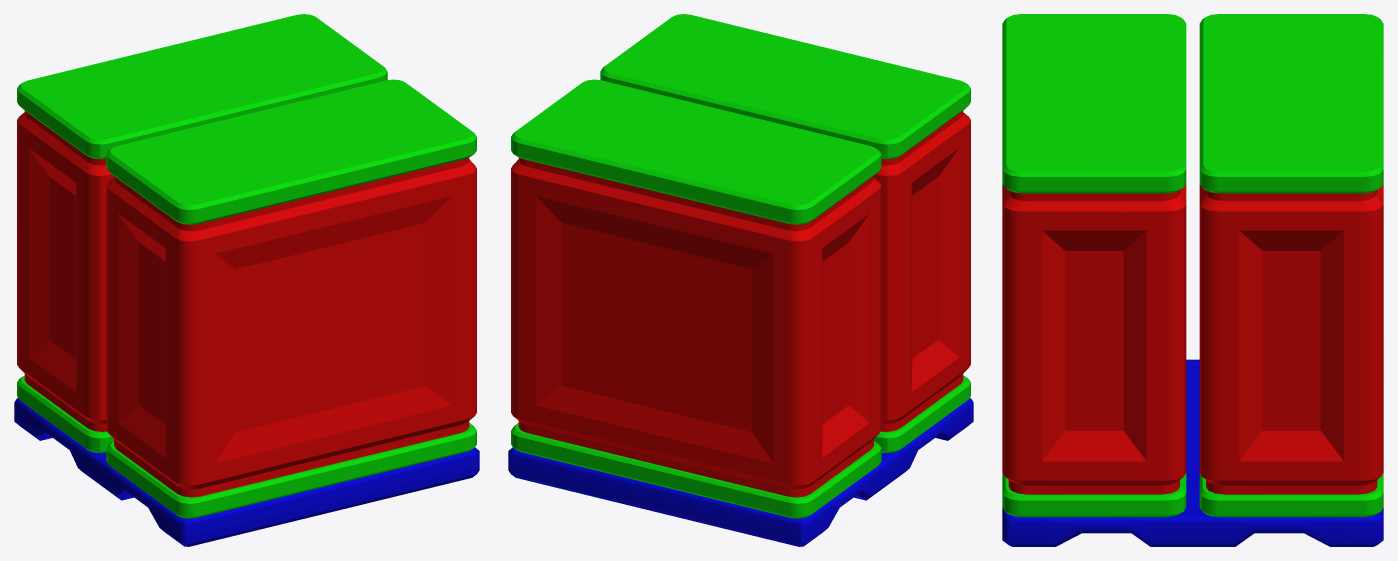
Rendered from SM_ValveRoom_Boxes_Staked_1.fbx.
3 renders of one model, left to right at view 1: azimuth 30°, elevation 25°; view 2: azimuth 150°, elevation 25°; view 3: azimuth 270°, elevation 25°, orthographic. The views are drawn at different scales.
Visible parts, largest first — view 1: SM_ValveRoom_Boxes_Staked_1; view 2: SM_ValveRoom_Boxes_Staked_1; view 3: SM_ValveRoom_Boxes_Staked_1.
Boxes of the visible parts, x1=… form: SM_ValveRoom_Boxes_Staked_1: x1=14, y1=14, x2=479, y2=546; SM_ValveRoom_Boxes_Staked_1: x1=508, y1=14, x2=973, y2=546; SM_ValveRoom_Boxes_Staked_1: x1=1002, y1=14, x2=1383, y2=546.
Bounding box in the file's own units: 200 × 218 × 200.
